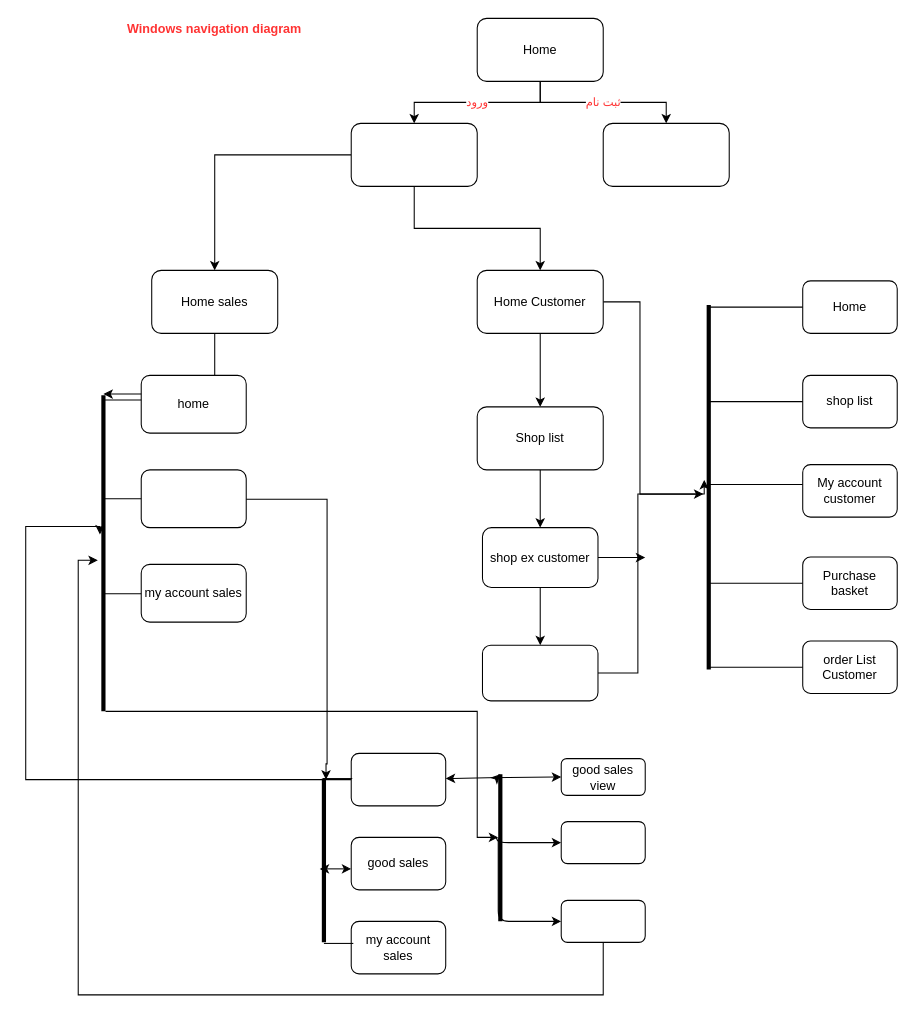
Image size: 916x1022. Some labels were removed from this diagram. Here are the shapes that lost their labels. From the top down, the centre of each, then its label:
At point (413, 154): "Login".
At point (665, 154): "Sign Up".
At point (193, 498): "dashboard".
At point (539, 672): "goods".
At point (398, 779): "order list sales".
At point (602, 842): "add good".
At point (602, 920): "edit good".
